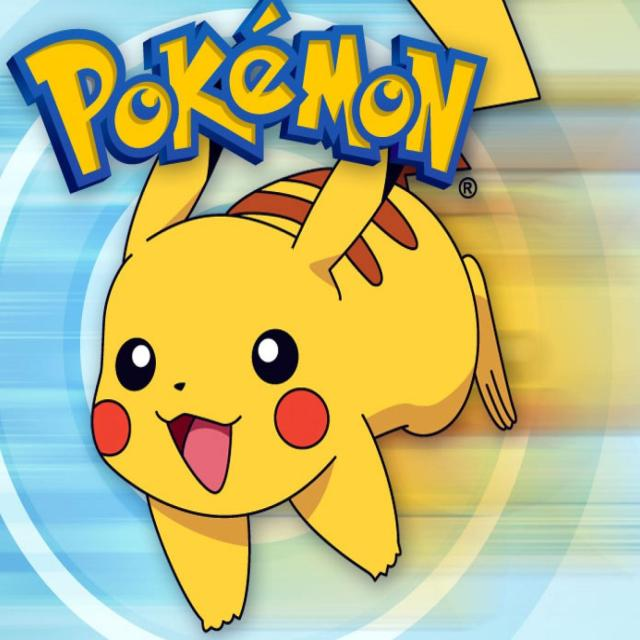pikachu: (91, 0, 545, 631)
